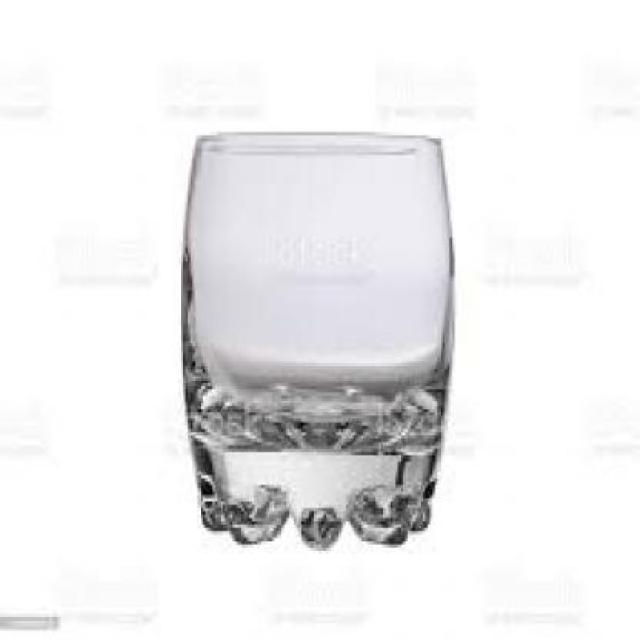kaca: (178, 129, 452, 548)
